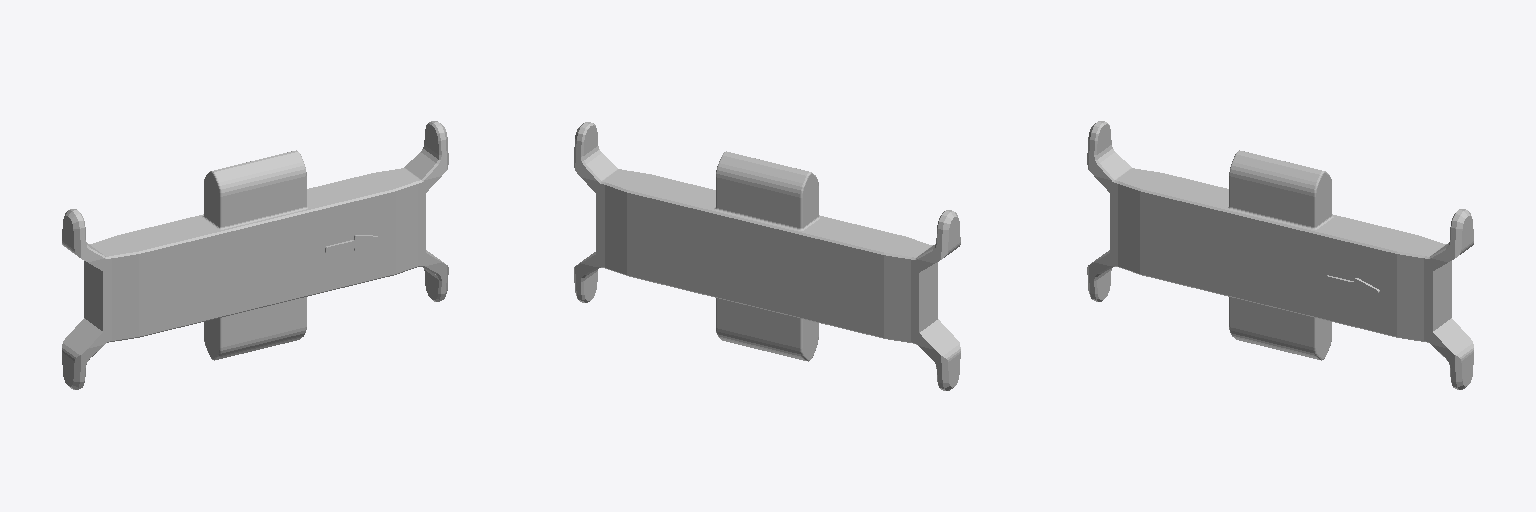
The model's file is solo12_base.obj.
3 renders of one model, left to right at view 1: azimuth 30°, elevation 25°; view 2: azimuth 150°, elevation 25°; view 3: azimuth 330°, elevation 25°, orthographic.
Bounding box in the file's own units: 0.4542 × 0.2185 × 0.053.